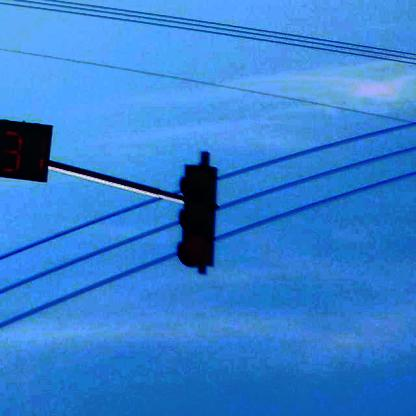Traffic Light -Red-: (179, 166, 219, 266)
